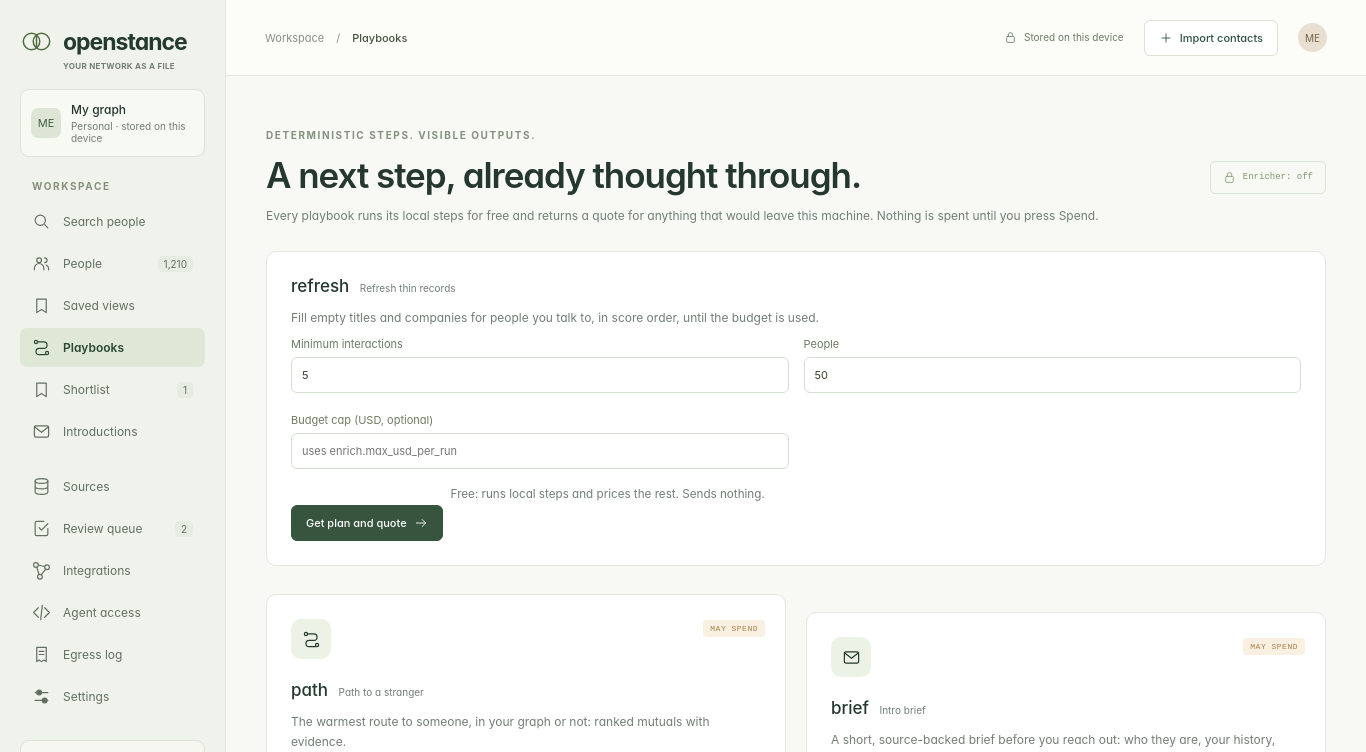
playbook results, human-first (U4) › refresh: updated people with their new fields, and the ones not found
Click the button "Get plan and quote" at (367, 523), box x1=291 y1=505 x2=443 y2=541
(page scrolled)
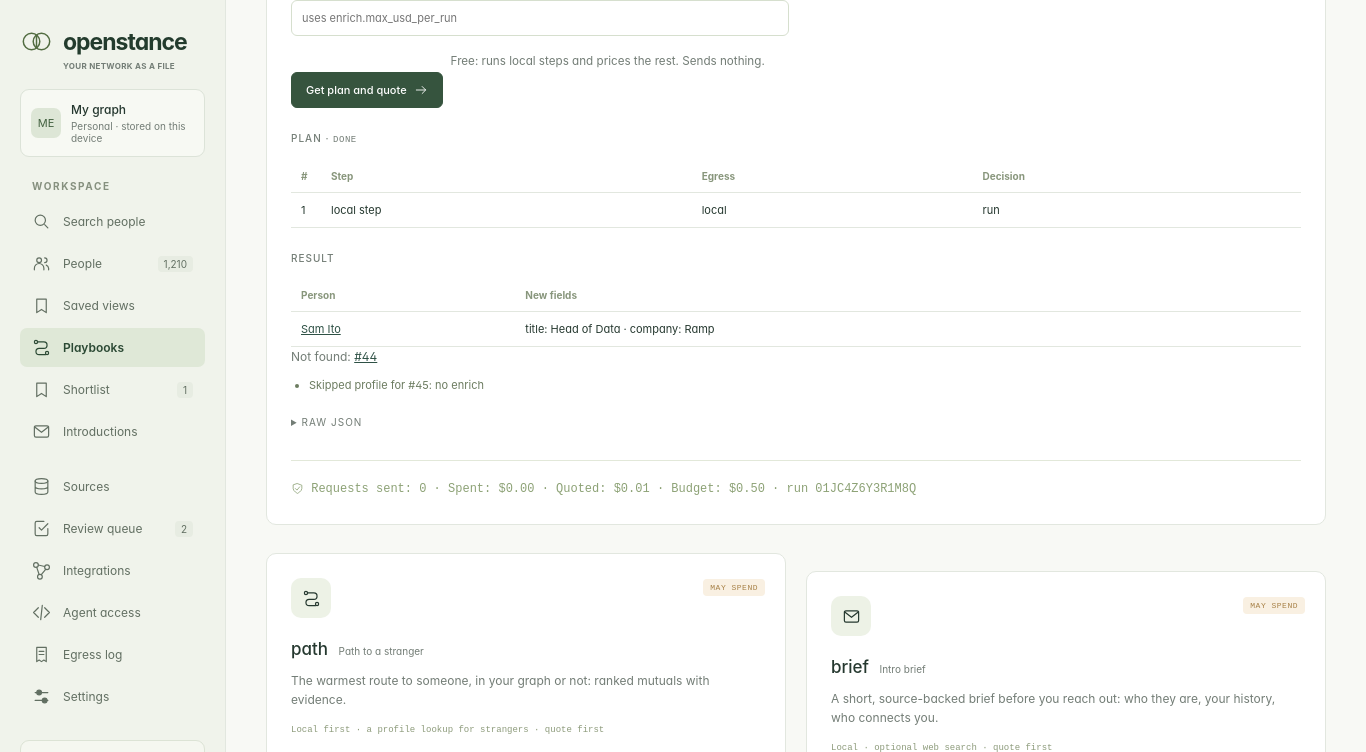
Expected: the text "Requests sent: 0" is shown, x1=291 y1=460 x2=1301 y2=500
Expected: the table named "updated" shows "title: Head of Data", x1=525 y1=322 x2=715 y2=336
Expected: the table named "updated" shows "company: Ramp", x1=525 y1=322 x2=715 y2=336
